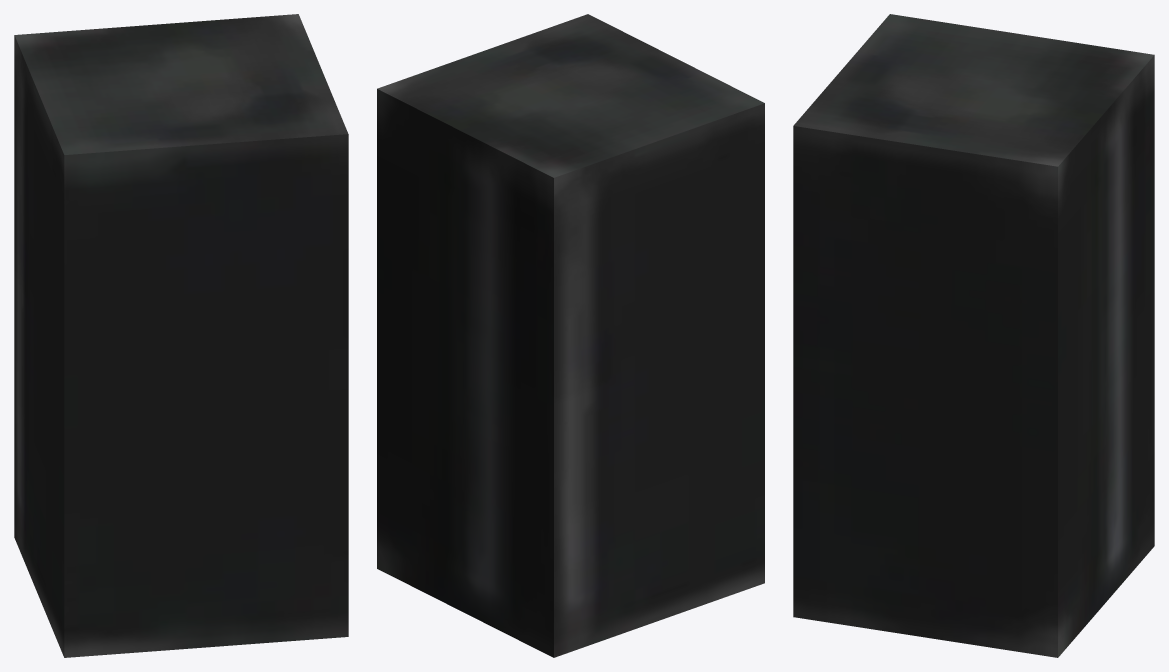
File: center_frame__rack_tooth_2.glb
3 views of the same model, side by side, from view 1: azimuth 30°, elevation 25°; view 2: azimuth 150°, elevation 25°; view 3: azimuth 270°, elevation 25° (orthographic). The views are drawn at different scales.
Parts seen in each view (by area): view 1: world; view 2: world; view 3: world.
Boxes of the visible parts, <box> form: world: <box>14,14,348,657</box>; world: <box>377,14,764,657</box>; world: <box>793,14,1154,657</box>.
Bounding box in the file's own units: 0.0333 × 0.05 × 0.0333.
Materials: 1 (1 with a texture image).
